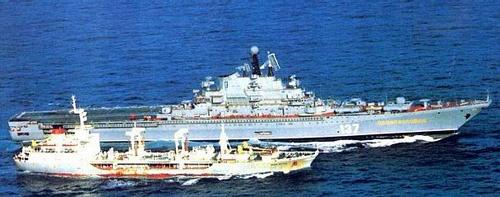warship: (5, 38, 497, 145), (11, 116, 320, 177)
